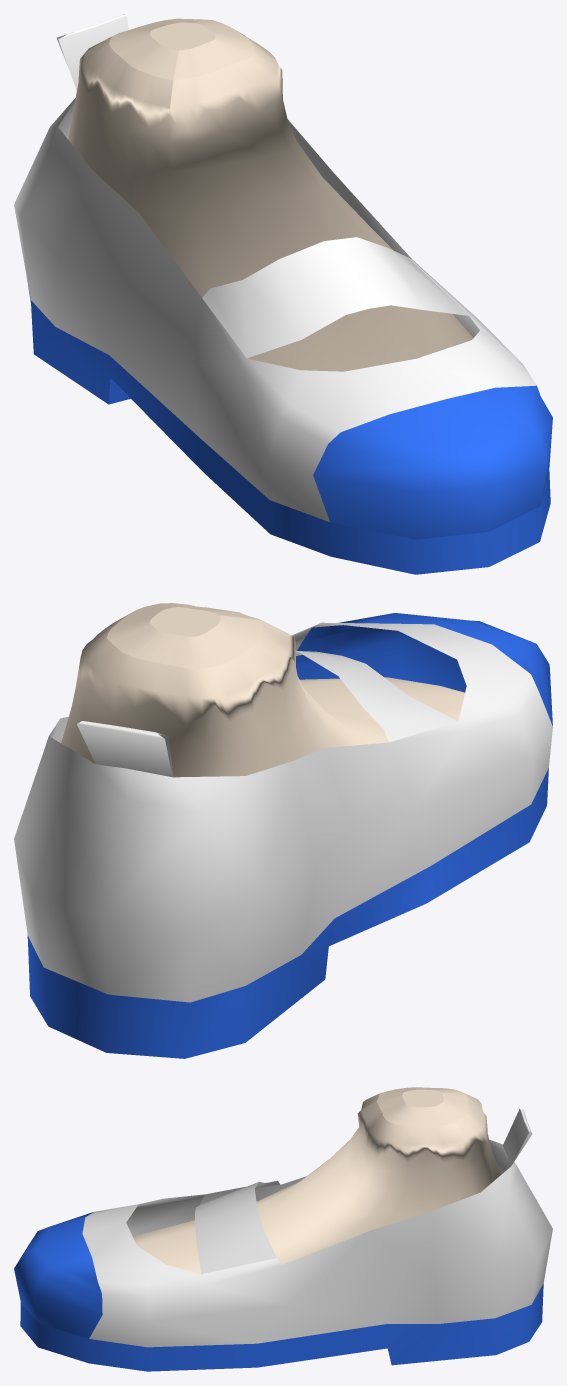
Rendered from 14_shoes_L.obj.
The picture shows the model from 3 angles, top to bottom: view 1: azimuth 30°, elevation 25°; view 2: azimuth 150°, elevation 25°; view 3: azimuth 270°, elevation 25°; orthographic projection. The views are drawn at different scales.
Parts seen in each view (by area): view 1: shoes_left; view 2: shoes_left; view 3: shoes_left.
Boxes of the visible parts, <box> form: shoes_left: <box>14,14,552,574</box>; shoes_left: <box>14,603,552,1058</box>; shoes_left: <box>14,1087,552,1371</box>.
Bounding box in the file's own units: 0.8522 × 0.9751 × 2.09.
Materials: 1 (1 with a texture image).
